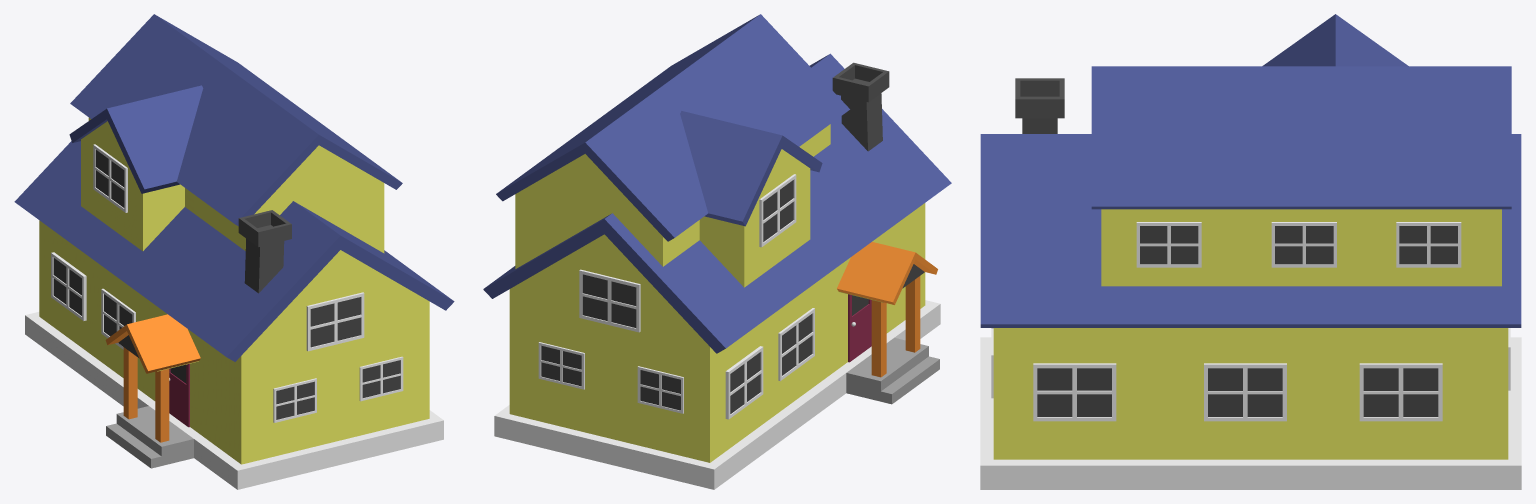
Rendered from House_1.fbx.
The picture shows the model from 3 angles, left to right: view 1: azimuth 30°, elevation 25°; view 2: azimuth 150°, elevation 25°; view 3: azimuth 270°, elevation 25°; orthographic projection. The views are drawn at different scales.
Parts seen in each view (by area): view 1: House_1; view 2: House_1; view 3: House_1.
Boxes of the visible parts, x1,y1,x2,y2 form: House_1: [14, 14, 454, 489]; House_1: [483, 14, 951, 489]; House_1: [980, 14, 1521, 489].
Size of the model in its own units: 4.49 by 6.33 by 4.81.
